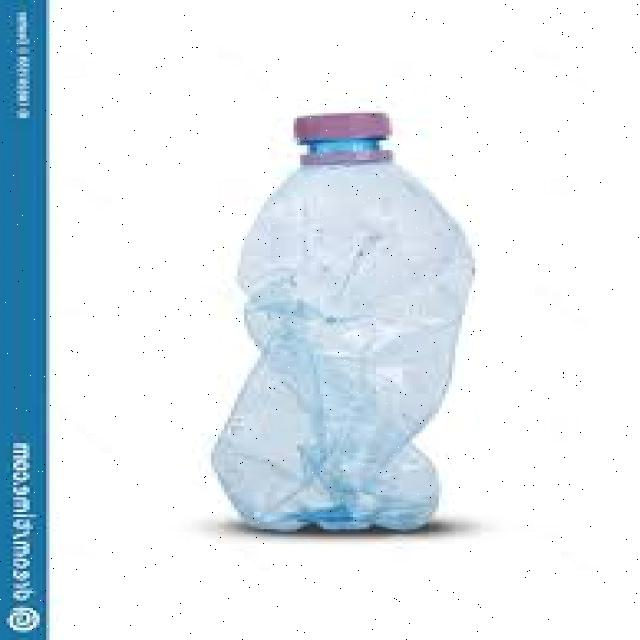bottle: (184, 84, 480, 544)
cap: (288, 100, 396, 172)
